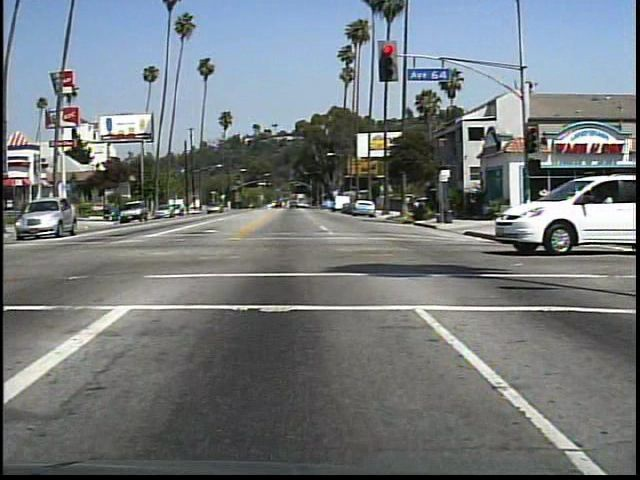person: (531, 186, 556, 234)
